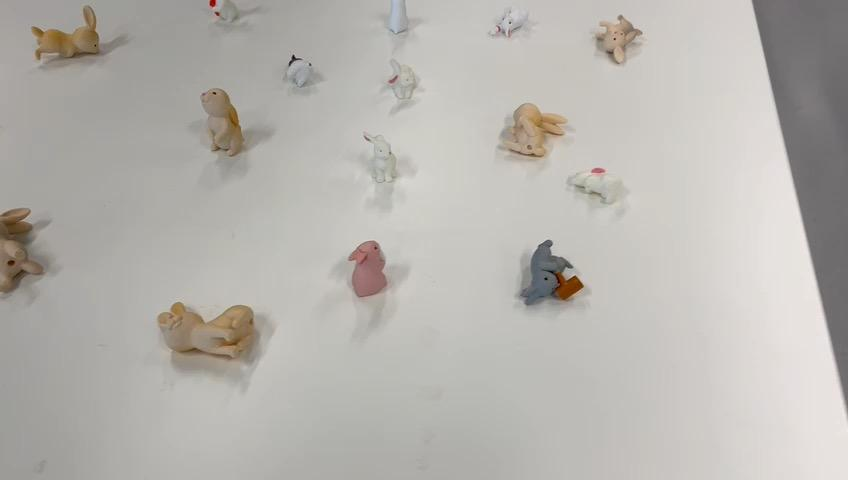pet: (155, 299, 263, 362), (25, 2, 105, 73), (512, 237, 590, 309), (0, 199, 46, 302), (499, 100, 571, 163), (199, 83, 246, 159), (592, 11, 647, 69), (342, 237, 390, 302), (564, 165, 632, 207), (360, 127, 404, 186), (485, 1, 536, 45), (382, 54, 425, 106), (379, 0, 415, 36), (283, 51, 317, 89)
